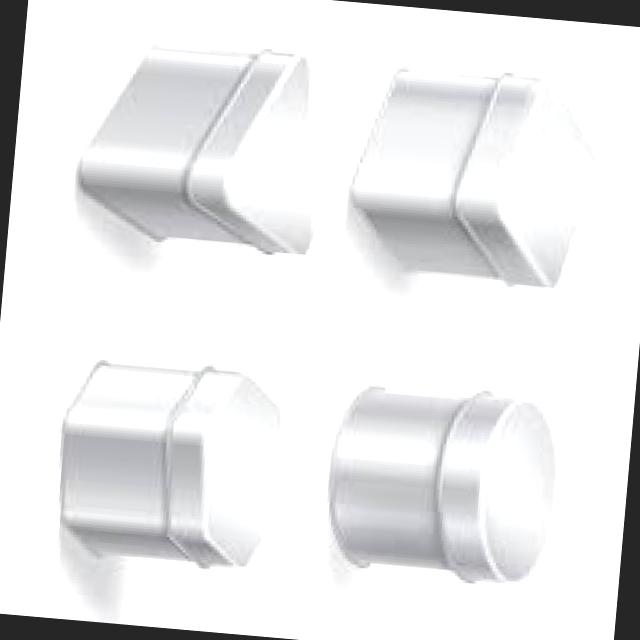metal: (351, 70, 595, 288), (79, 48, 312, 254), (60, 363, 281, 568), (330, 387, 556, 584)
